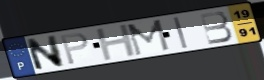B: (198, 10, 235, 46)
H: (94, 23, 139, 63)
I: (172, 16, 190, 50)
M: (125, 18, 172, 58)
N: (24, 34, 66, 72)
P: (59, 32, 90, 67)
